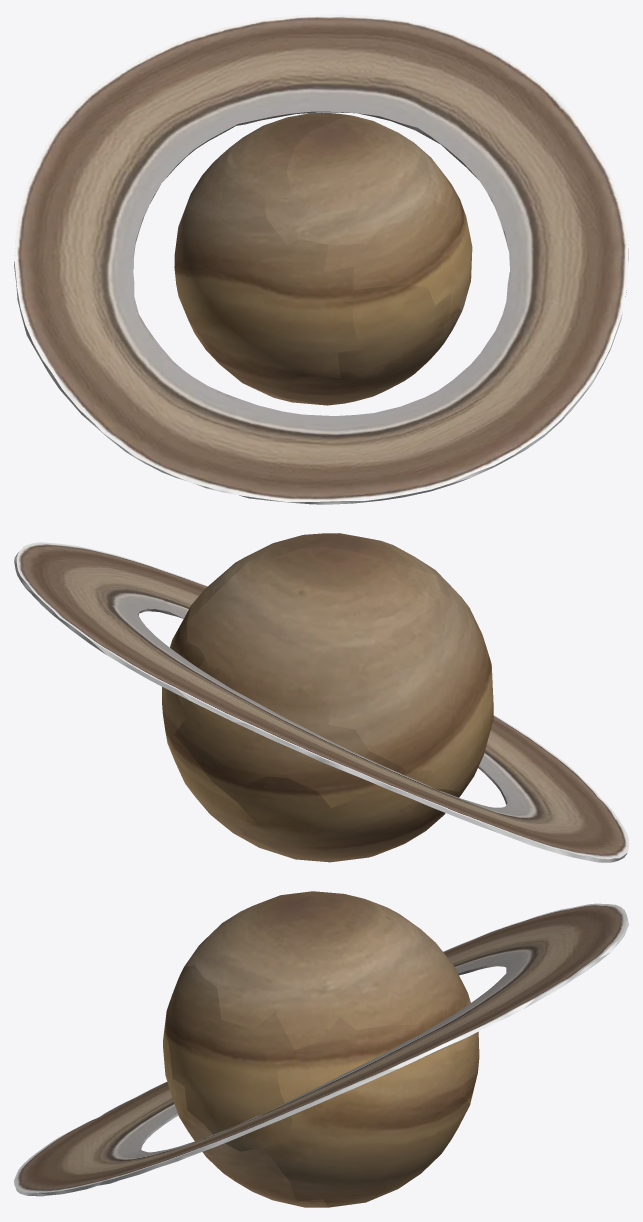
3 views of the same model, one above another, from view 1: azimuth 30°, elevation 25°; view 2: azimuth 150°, elevation 25°; view 3: azimuth 270°, elevation 25° (orthographic). The views are drawn at different scales.
Visible parts, largest first — view 1: geometry_0; view 2: geometry_0; view 3: geometry_0.
Boxes of the visible parts, x1=… form: geometry_0: x1=14, y1=14, x2=628, y2=504; geometry_0: x1=14, y1=533, x2=628, y2=862; geometry_0: x1=14, y1=891, x2=628, y2=1207.
Size of the model in its own units: 2.74e+08 by 1.38e+08 by 2.68e+08.
Materials: 1 (1 with a texture image).
